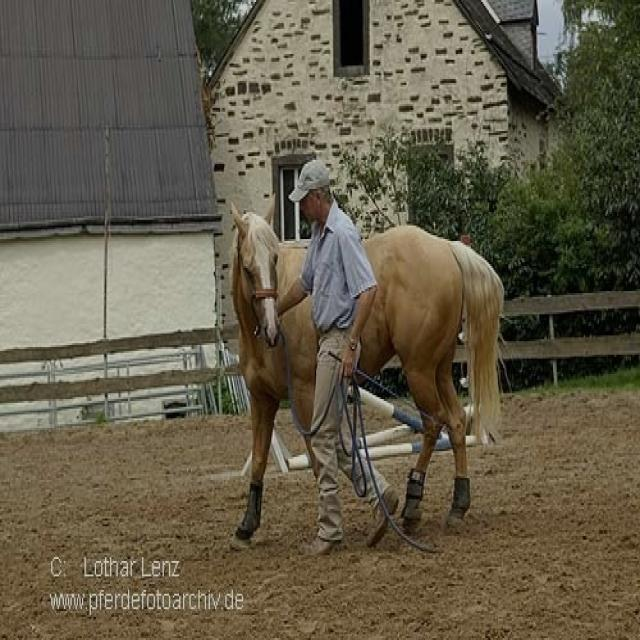non-fight: (286, 150, 382, 552)
